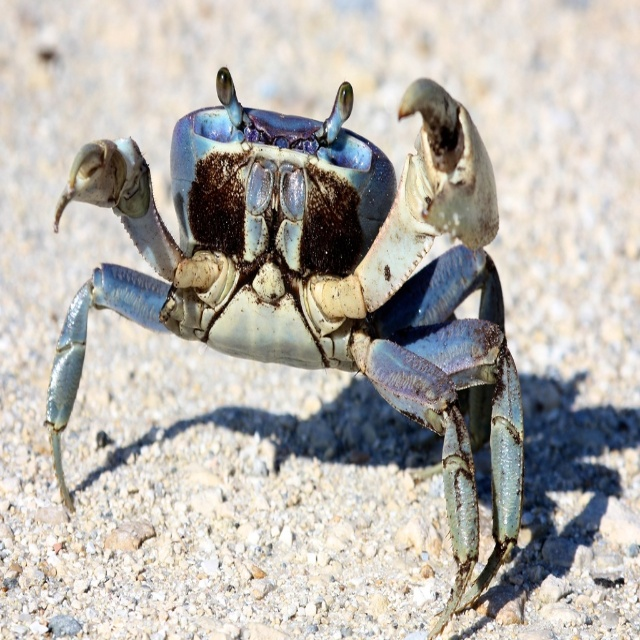Crab: (43, 65, 525, 640)
